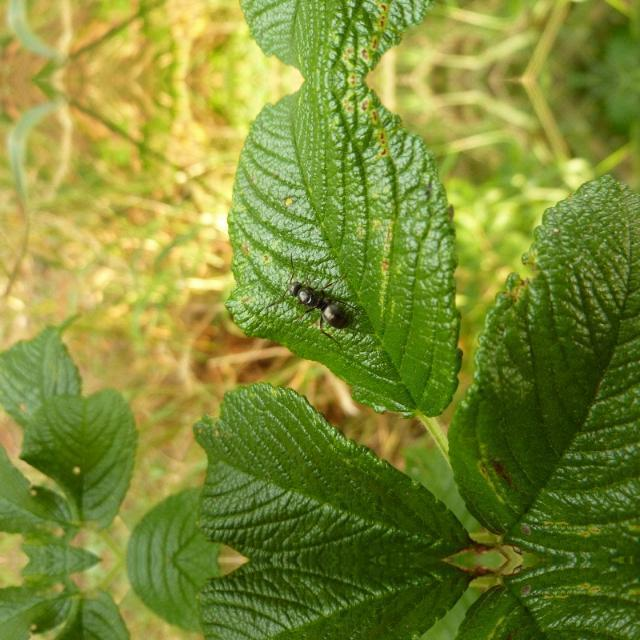Formica: (263, 250, 369, 332)
